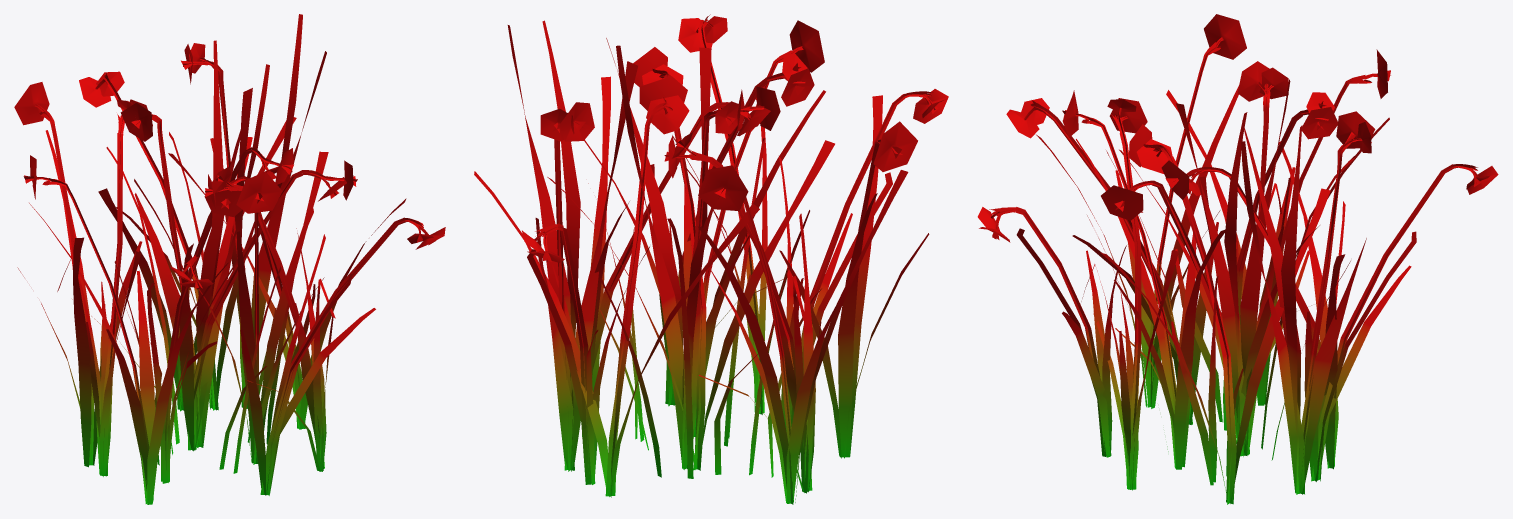
Rendered from Rush Daffodil_LOD4_Var10_wftgfjaia.fbx.
3 views of the same model, side by side, from view 1: azimuth 30°, elevation 25°; view 2: azimuth 150°, elevation 25°; view 3: azimuth 270°, elevation 25° (orthographic). The views are drawn at different scales.
Parts seen in each view (by area): view 1: _7wfp_var10_LOD4; view 2: _7wfp_var10_LOD4; view 3: _7wfp_var10_LOD4.
Part boxes in pixels (bbox=[...]): _7wfp_var10_LOD4: bbox=[14, 14, 445, 504]; _7wfp_var10_LOD4: bbox=[474, 14, 948, 504]; _7wfp_var10_LOD4: bbox=[977, 14, 1498, 504].
Bounding box in the file's own units: 35.81 × 39.75 × 47.49.
